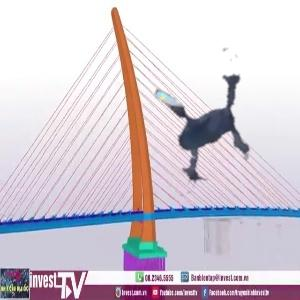drone: (101, 21, 282, 202)
